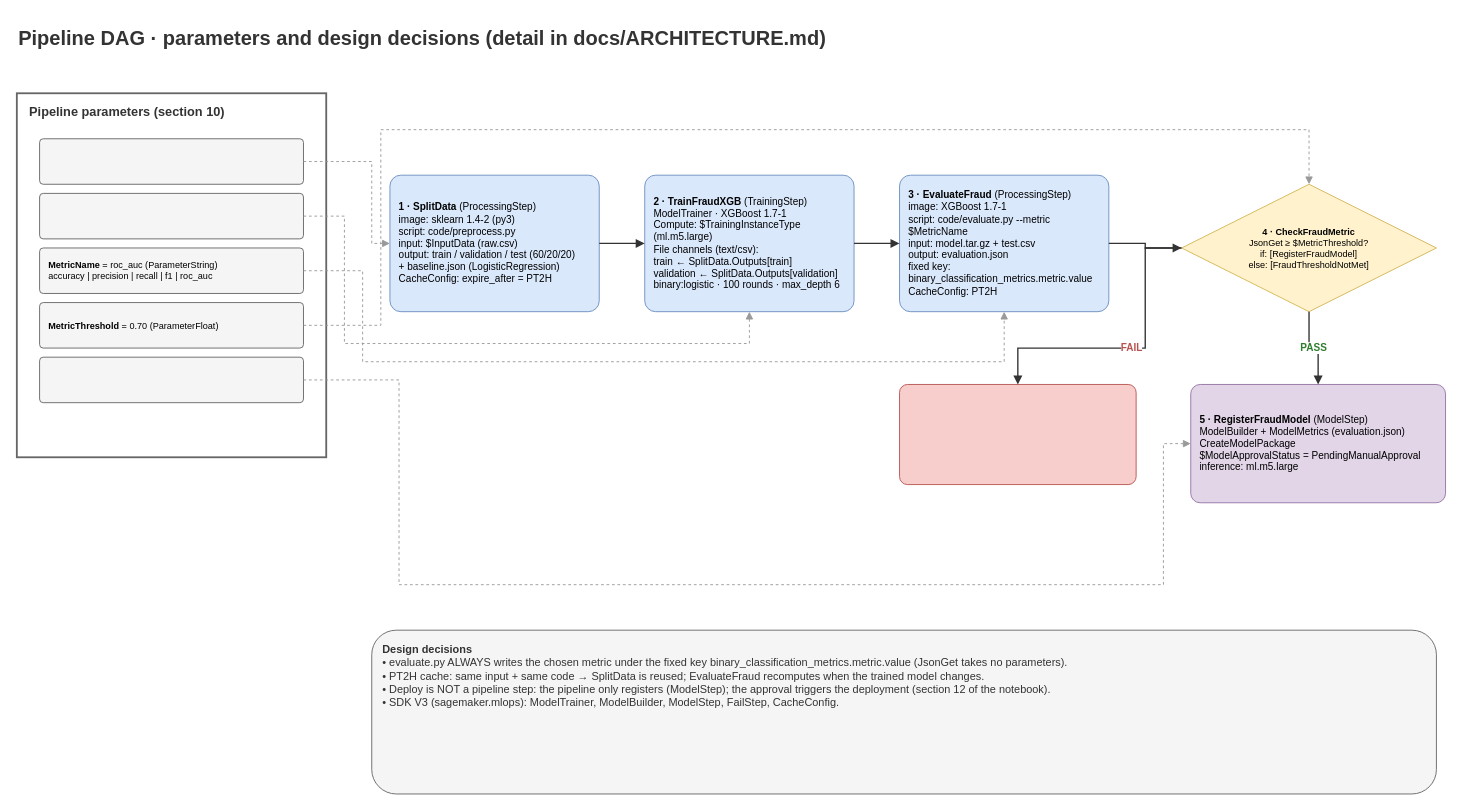
This 1461x810 diagram has some shape labels left out. Each missing label, with the centre of its shape:
FraudThresholdNotMet (FailStep) error_message → Failed run → EventBridge → SNS: pixel 1017 434
InputData = s3://…/fraud-mlops/ingest/raw.csv (ParameterString): pixel 171 161
ModelApprovalStatus = PendingManualApproval (ParameterString): pixel 171 379
TrainingInstanceType = ml.m5.large (ParameterString): pixel 171 215
